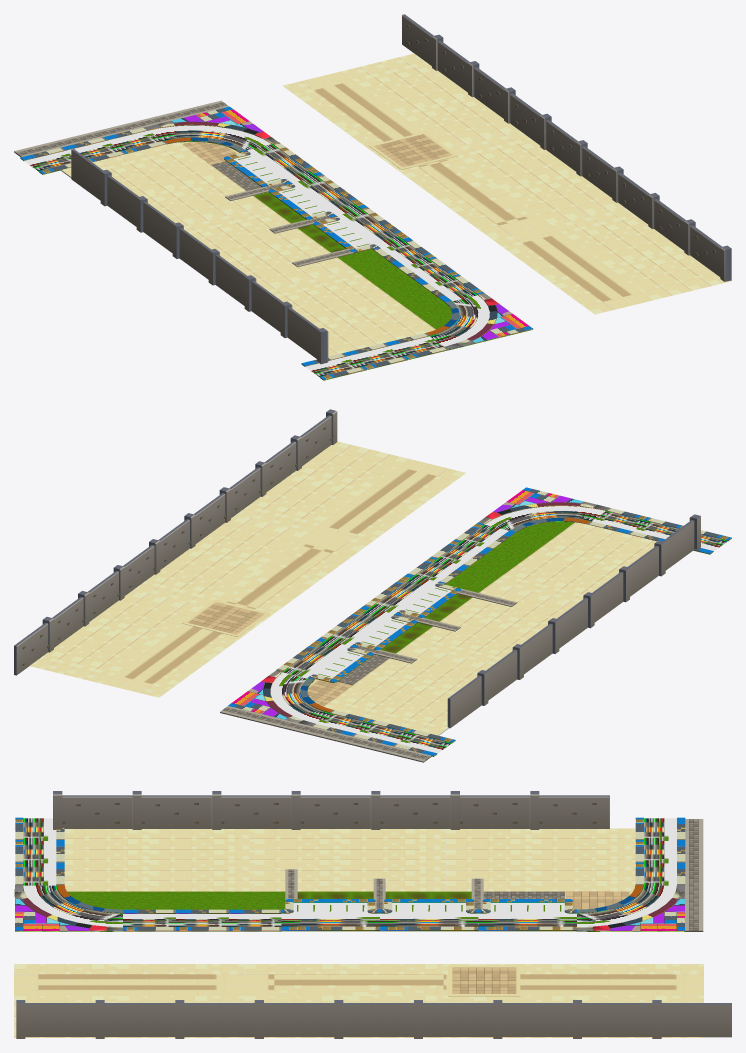
Rendered from Level_02_road_side.fbx.
The picture shows the model from 3 angles, top to bottom: view 1: azimuth 30°, elevation 25°; view 2: azimuth 150°, elevation 25°; view 3: azimuth 270°, elevation 25°; orthographic projection. The views are drawn at different scales.
Parts seen in each view (by area): view 1: Plane.013, Plane.016, wall.002, Plane.014, wall.001, Road_1J.001, Plane.015, Road_3V.001, Road_3V.002, Plane.017, Road_1A_+2.002, Road_1A_+2.001 (+4 smaller); view 2: Plane.013, Plane.016, wall.002, Plane.014, wall.001, Road_1J.001, Plane.015, Road_3V.002, Road_3V.001, Plane.017, Road_1A_+2.003, Road_1A_+2.001 (+5 smaller); view 3: Plane.016, wall.002, wall.001, Plane.014, Road_1J.001, Plane.015, Plane.013, Road_3V.002, Road_3V.001, Plane.017, Road_1A_+2.001, Road_1A_+2.003 (+7 smaller).
Part boxes in pixels (x1,y1,x2,y2): Plane.013: (342,53,731,299); Plane.016: (61,142,435,356); wall.002: (402,14,731,281); Plane.014: (302,71,653,309); wall.001: (71,149,328,364); Road_1J.001: (224,142,412,252); Plane.015: (282,81,613,314); Road_3V.001: (145,106,277,152); Road_3V.002: (426,293,533,350); Plane.017: (338,249,452,329); Road_1A_+2.002: (301,333,448,380); Road_1A_+2.001: (374,240,483,302); Plane.013: (29,441,407,683); Plane.016: (324,522,656,735); wall.002: (14,409,337,675); Plane.014: (102,458,446,692); wall.001: (447,514,700,728); Road_1J.001: (276,573,461,682); Plane.015: (140,468,465,697); Road_3V.002: (478,487,608,532); Road_3V.001: (228,670,332,725); Plane.017: (445,521,574,592); Road_1A_+2.003: (311,710,455,756); Road_1A_+2.001: (408,522,516,583); Plane.016: (64,828,635,891); wall.002: (16,1000,731,1038); wall.001: (53,791,609,829); Plane.014: (14,974,703,995); Road_1J.001: (281,899,576,931); Plane.015: (14,964,703,974); Plane.013: (14,995,703,1037); Road_3V.002: (14,885,122,931); Road_3V.001: (577,885,684,931); Plane.017: (67,891,285,909); Road_1A_+2.001: (123,909,281,931); Road_1A_+2.003: (635,817,685,885).
Bounding box in the file's own units: 3861 × 315 × 5326.
